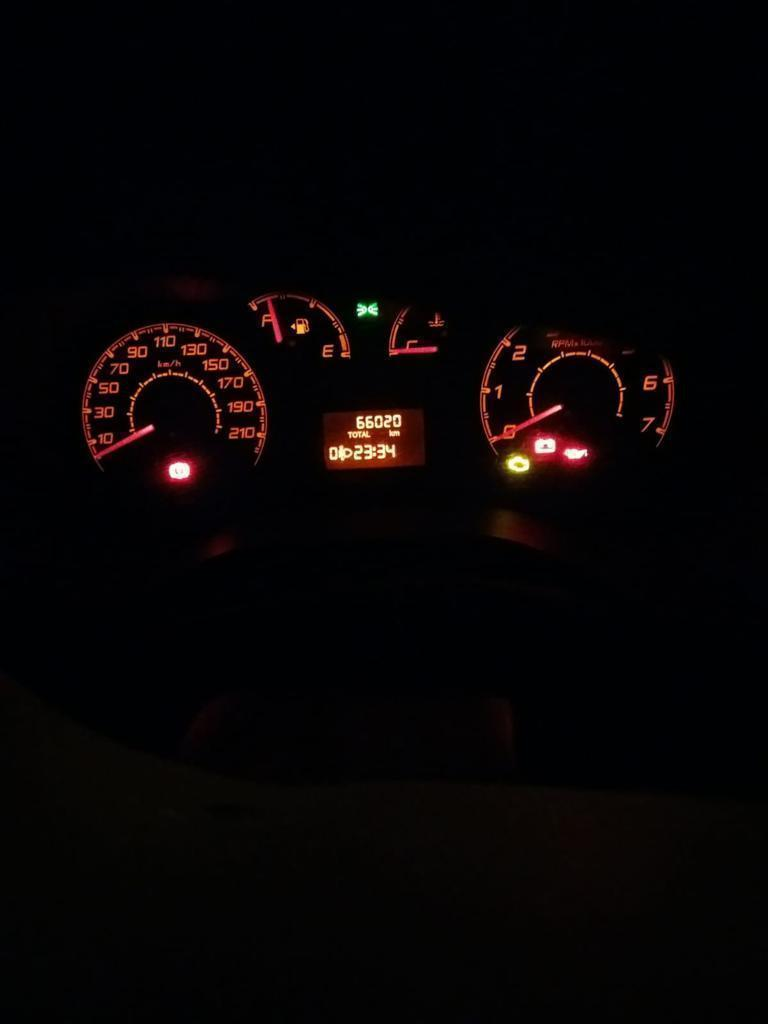0: (328, 445, 338, 461), (392, 413, 401, 428), (374, 414, 382, 429)
2: (352, 443, 362, 461), (383, 413, 391, 428)
3: (363, 442, 372, 461), (376, 442, 385, 459)
4: (385, 442, 397, 459)
6: (355, 415, 365, 429), (365, 415, 374, 429)
X: (365, 429, 371, 438), (372, 445, 376, 458), (393, 430, 400, 437), (347, 430, 352, 439), (352, 431, 358, 438), (388, 429, 393, 437), (361, 431, 365, 438), (358, 431, 361, 438)
odometer: (315, 403, 432, 473)
